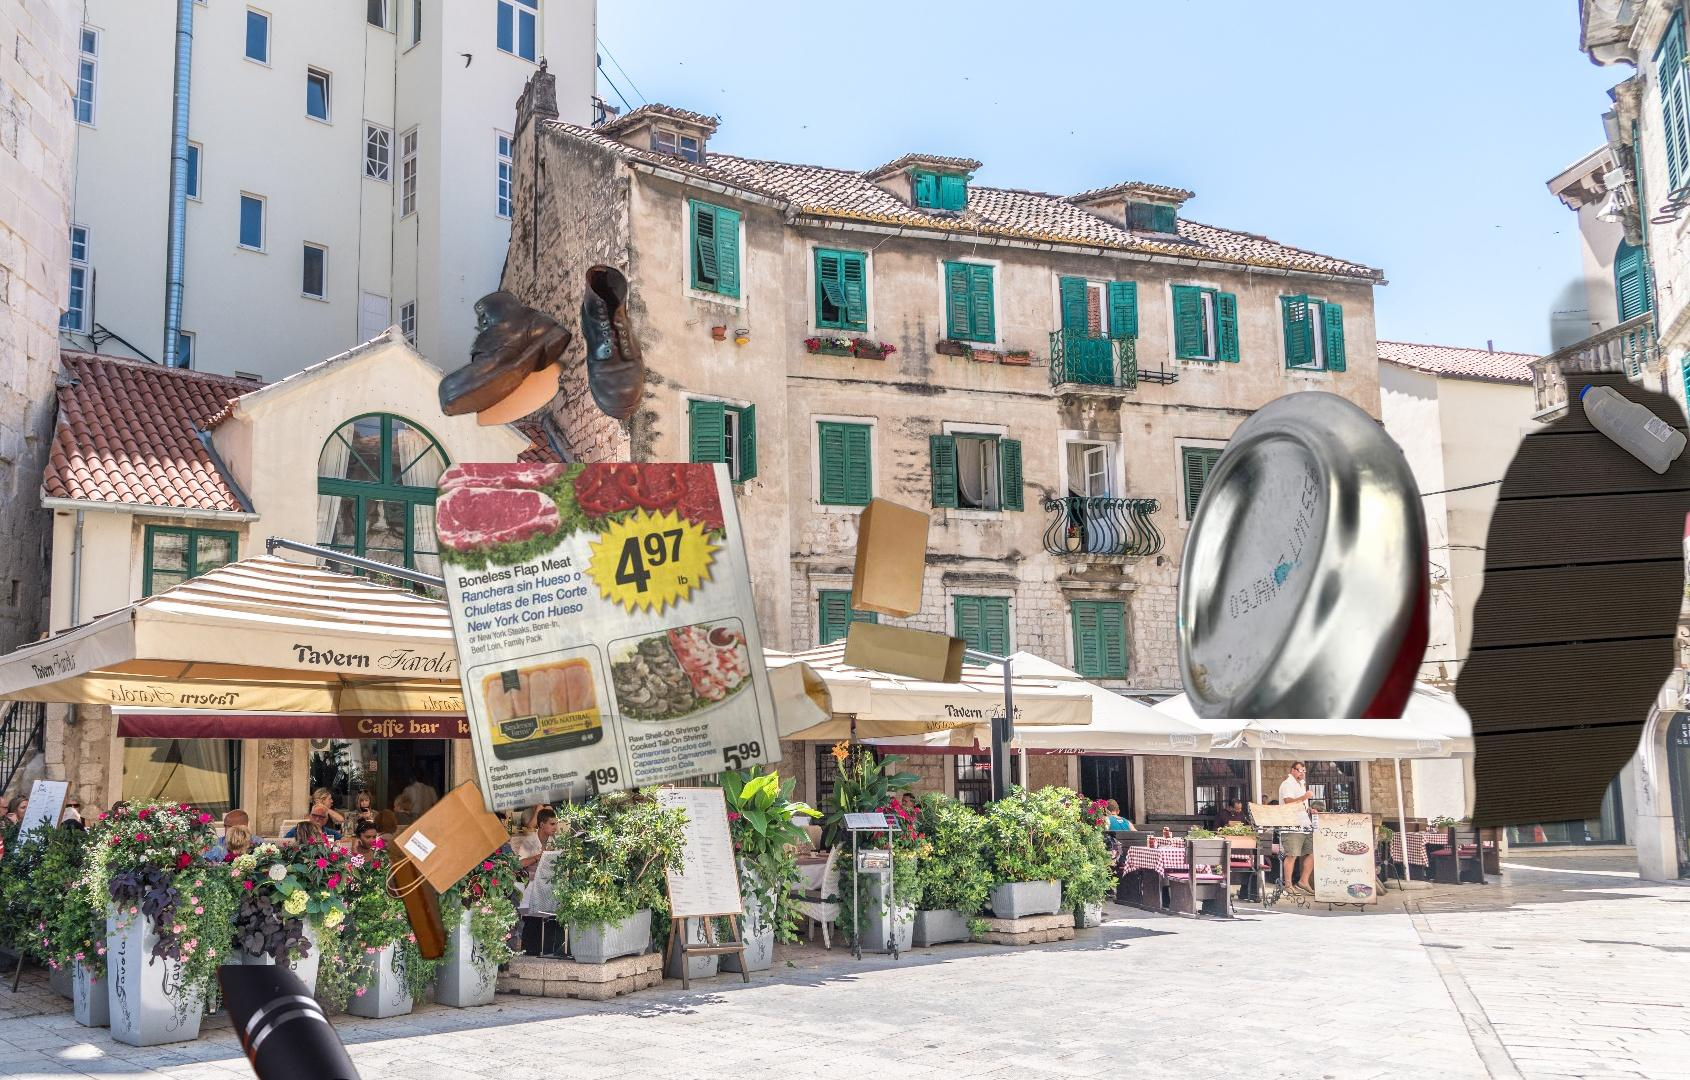metal-cans: (1171, 389, 1481, 719)
paper: (386, 463, 788, 831)
paper-bag: (721, 494, 969, 746), (318, 681, 512, 962)
penholder: (209, 965, 809, 1080)
plastic-bottles: (510, 715, 1017, 1080), (1433, 268, 1690, 832)
shoes: (436, 264, 647, 429)
